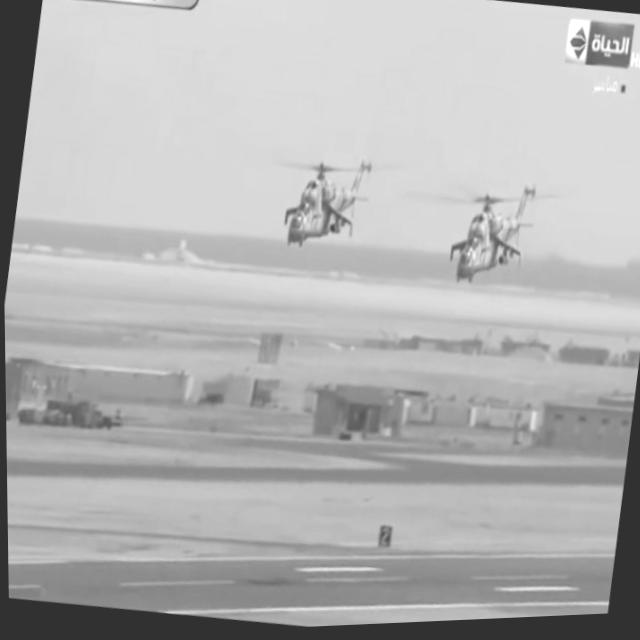helikopter: (424, 174, 545, 321), (255, 124, 381, 250)
